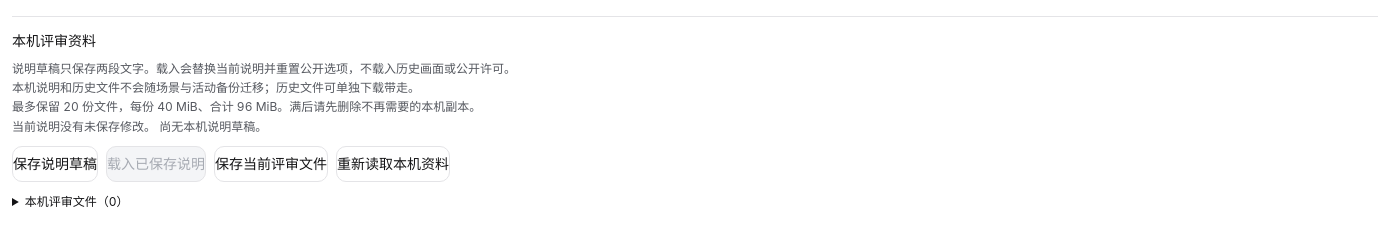
Test: local review library panel › saves only a still-current approved file and keeps its original metadata
Check: the button "保存说明草稿" is enabled, box [12,146,98,182]
What coordinates should you click on to do the following:
click the button "保存当前评审文件"
I would click on:
 (271, 164)
Its box is [214,146,328,182].
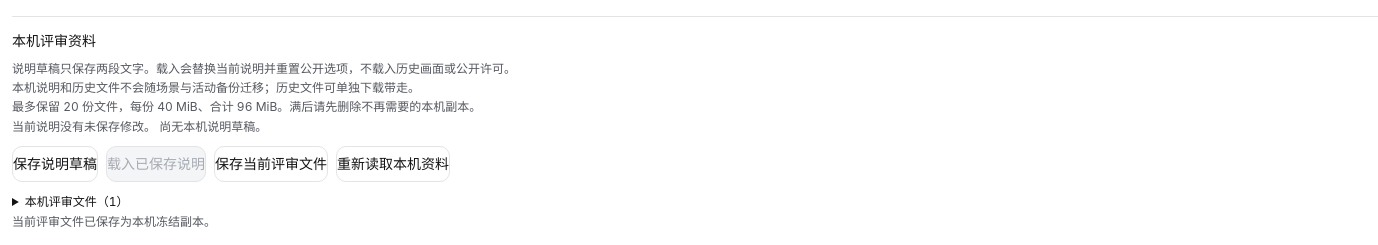
Check: the text "当前评审文件已保存为本机冻结副本。" is shown, box [12,214,216,229]
Check: the heading "本机评审文件（1）" is shown, box [25,194,128,209]
